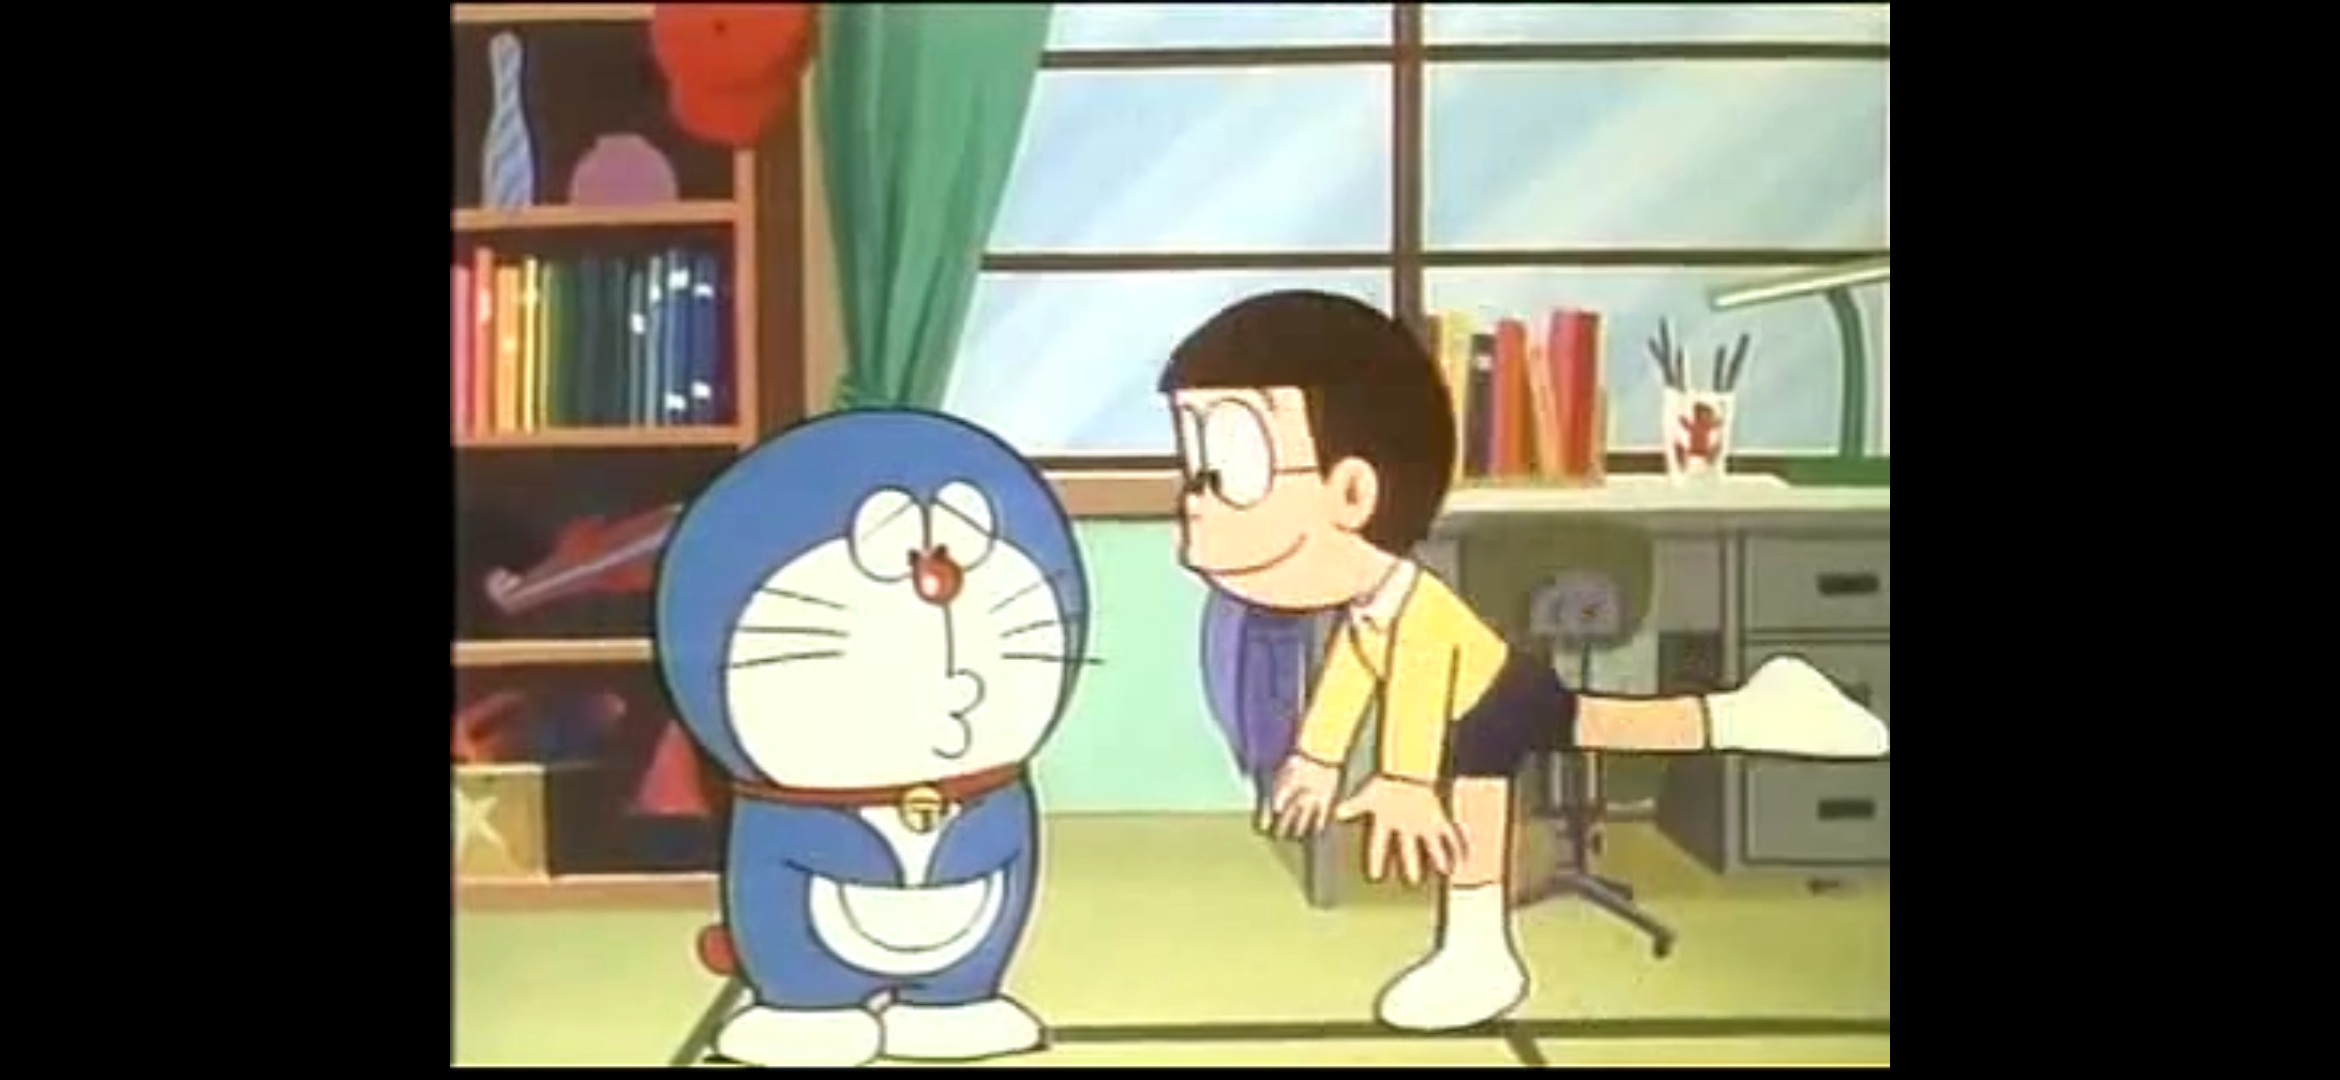Doraemon: (654, 407, 1089, 832)
Nobi: (1155, 289, 1455, 609)
